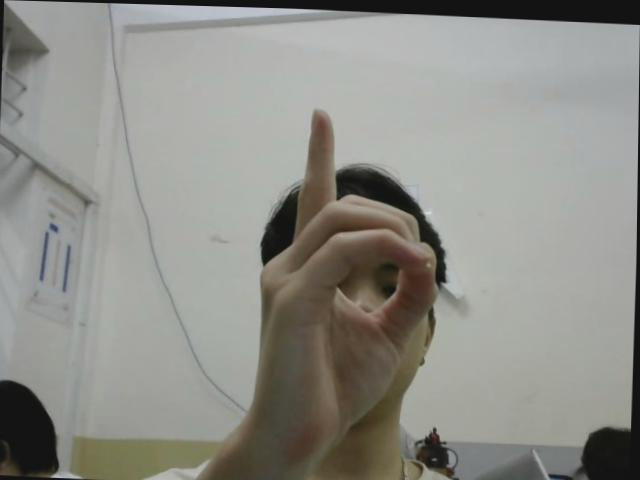D: (252, 98, 444, 460)
